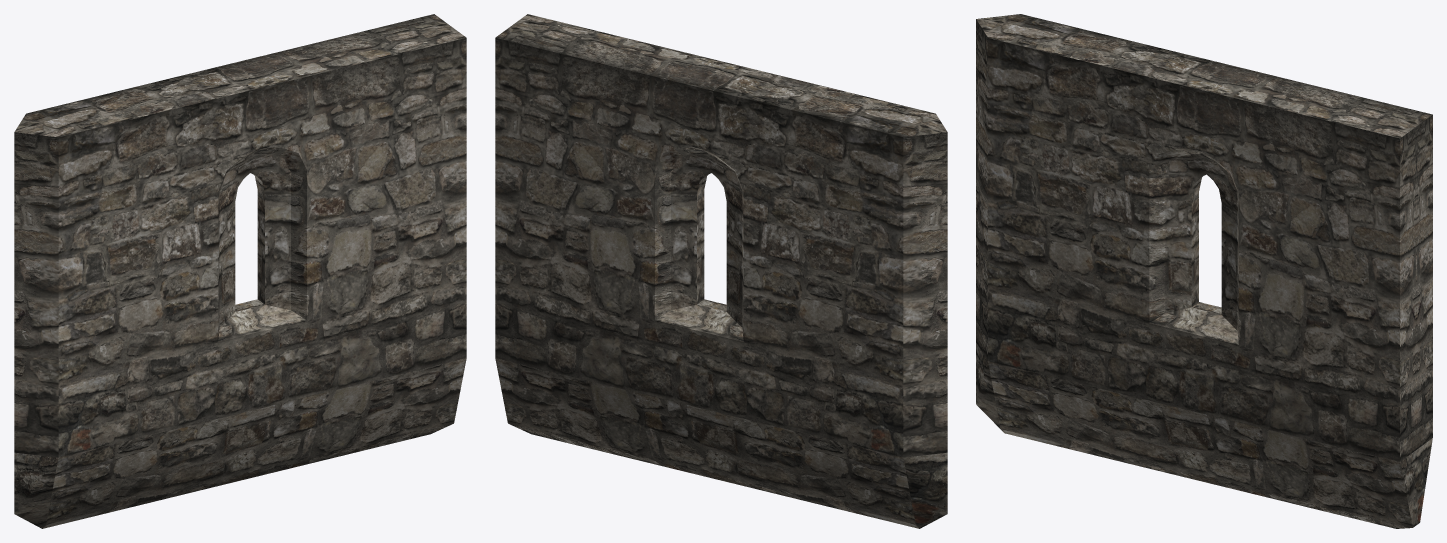
The model's file is House_Stone_Window_Narrow.dae.
3 renders of one model, left to right at view 1: azimuth 30°, elevation 25°; view 2: azimuth 150°, elevation 25°; view 3: azimuth 330°, elevation 25°, orthographic.
Visible parts, largest first — view 1: StoneWindowNarrow; view 2: StoneWindowNarrow; view 3: StoneWindowNarrow.
Boxes of the visible parts, bbox=[...] form: StoneWindowNarrow: bbox=[14, 14, 466, 528]; StoneWindowNarrow: bbox=[495, 14, 947, 528]; StoneWindowNarrow: bbox=[976, 14, 1432, 528].
Size of the model in its own units: 4.28 by 3.8 by 0.55.
1 material, 1 textured.
